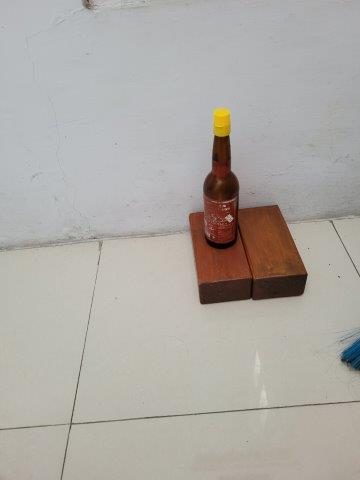botolkaca: (203, 108, 241, 249)
